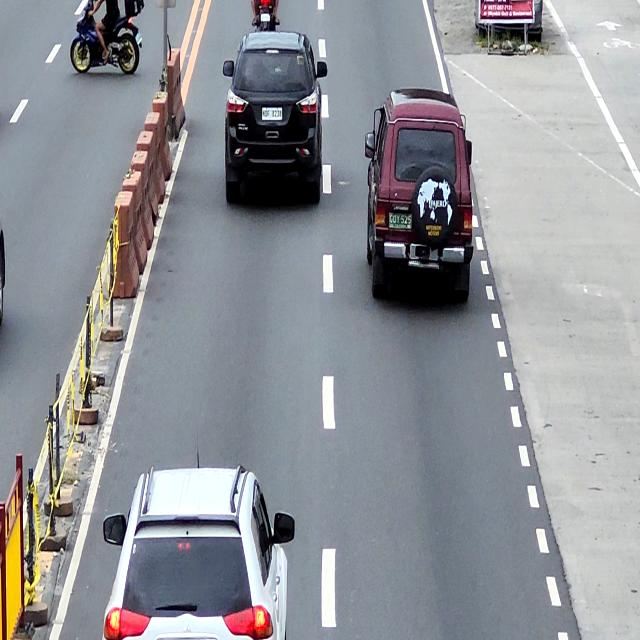Car: (103, 467, 294, 640), (364, 88, 473, 303), (222, 30, 327, 206)
License-Plate: (389, 213, 412, 229), (262, 107, 283, 120), (260, 14, 270, 22)
Motorcycle: (69, 0, 143, 75), (253, 0, 276, 33)
